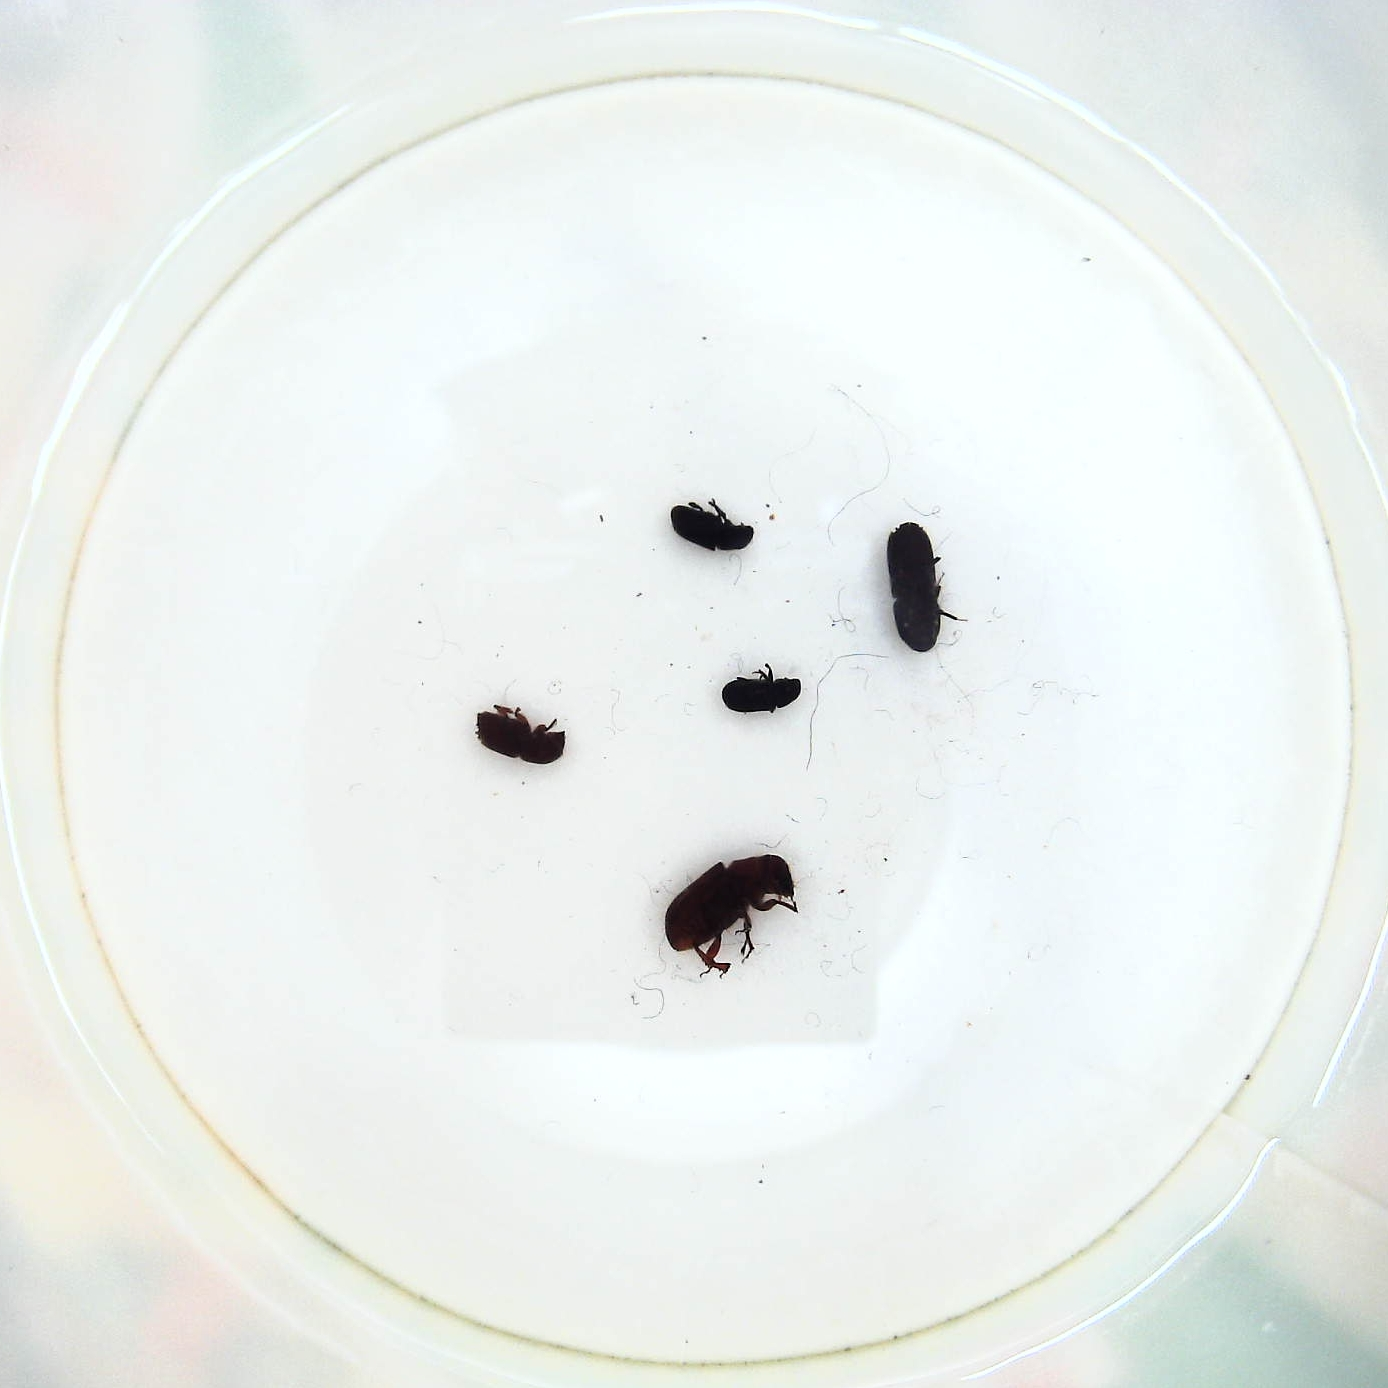Boerner: (882, 514, 962, 657)
Leconte: (655, 852, 805, 977)
armandi: (667, 500, 760, 557)
coleoptera: (721, 662, 806, 721)
linnaeus: (472, 702, 575, 772)
